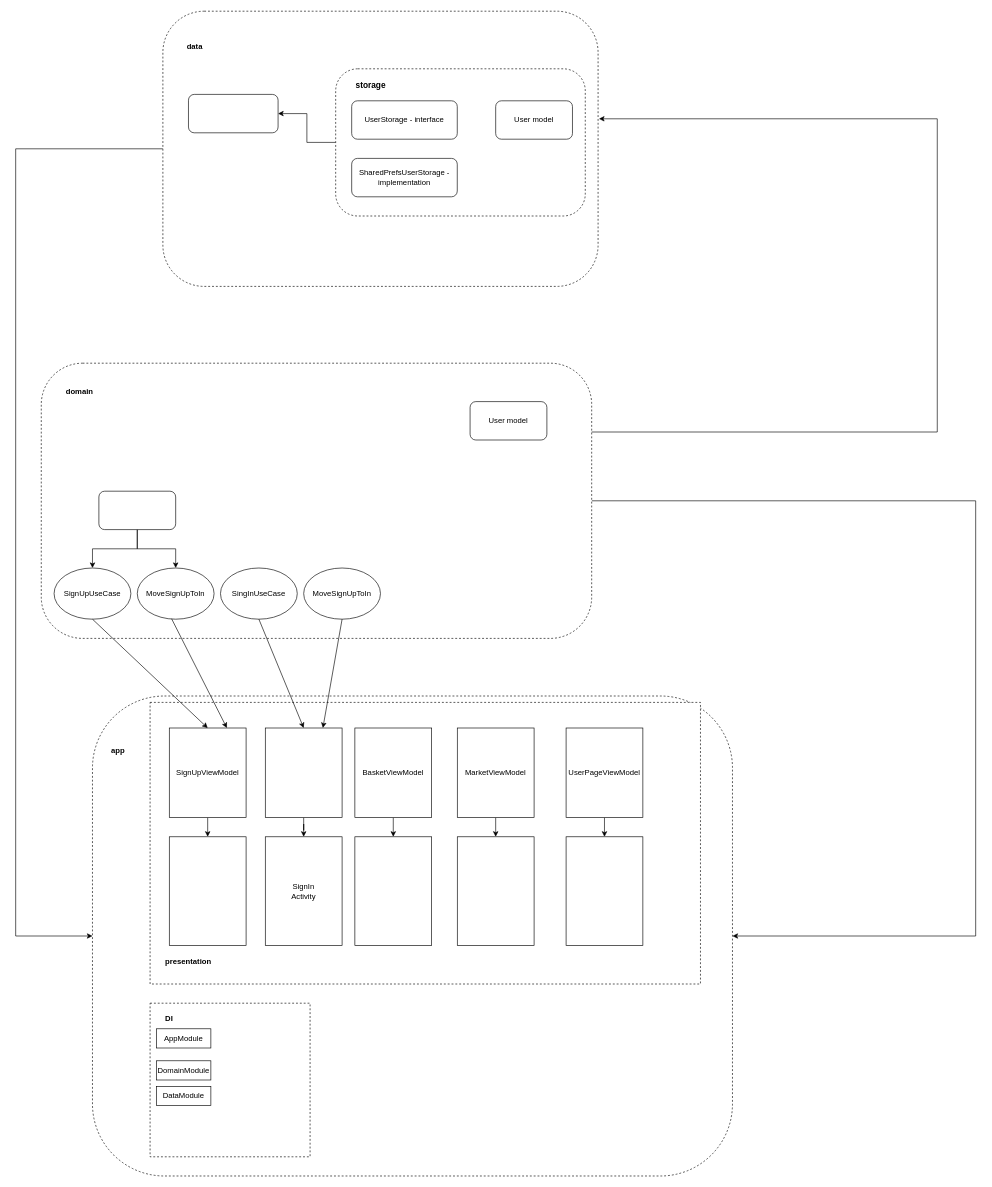
The diagram is 992 pixels wide and 1187 high, and some of its shapes have lost their labels. The shapes that lost their labels are listed below. From the top down, each one's centre as x and y in pixels, then its label:
At (x=233, y=113): "UserRepositoryImpl- implementation".
At (x=137, y=510): "UserRepository-interface".
At (x=303, y=772): "SignInViewModel".
At (x=207, y=891): "SignUp Activity".
At (x=393, y=891): "Basket Activity".
At (x=495, y=891): "Market Activity".
At (x=604, y=891): "UserPage Activity".
